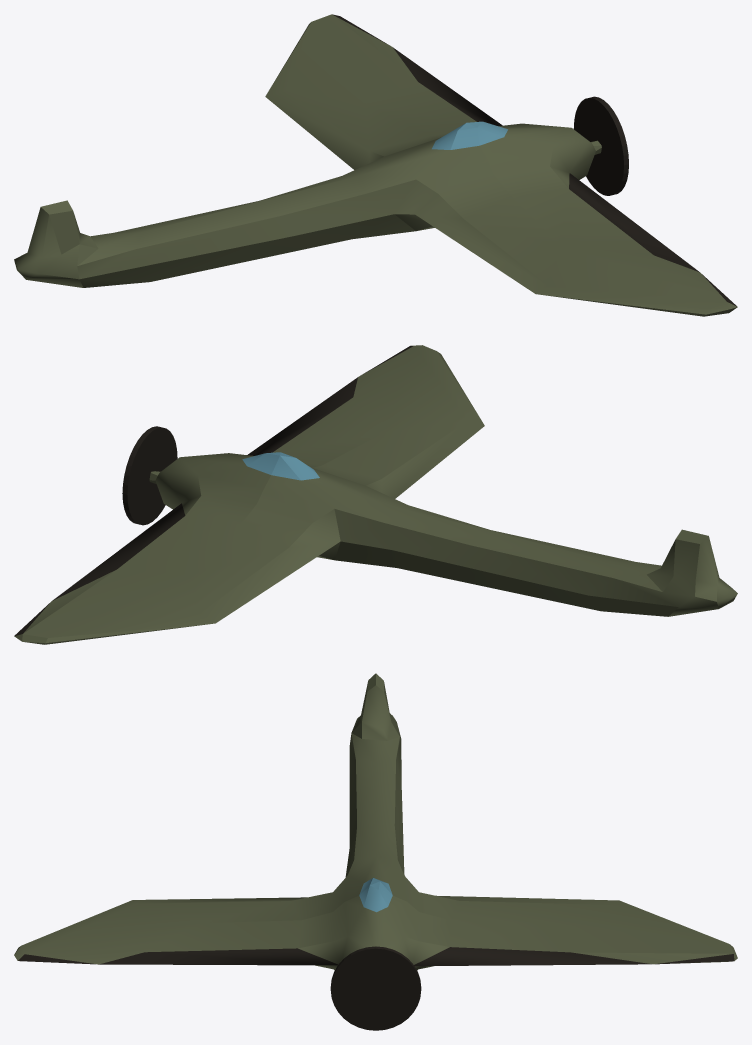
The picture shows the model from 3 angles, top to bottom: view 1: azimuth 30°, elevation 25°; view 2: azimuth 150°, elevation 25°; view 3: azimuth 270°, elevation 25°; orthographic projection. The views are drawn at different scales.
Parts seen in each view (by area): view 1: Cube, Circle; view 2: Cube, Circle; view 3: Cube, Circle.
Boxes of the visible parts, bbox=[...] form: Cube: bbox=[14, 14, 737, 316]; Circle: bbox=[573, 96, 628, 195]; Cube: bbox=[14, 345, 737, 644]; Circle: bbox=[122, 426, 177, 525]; Cube: bbox=[14, 673, 737, 970]; Circle: bbox=[330, 946, 421, 1030].
Size of the model in its own units: 5.07 by 1 by 5.99.
